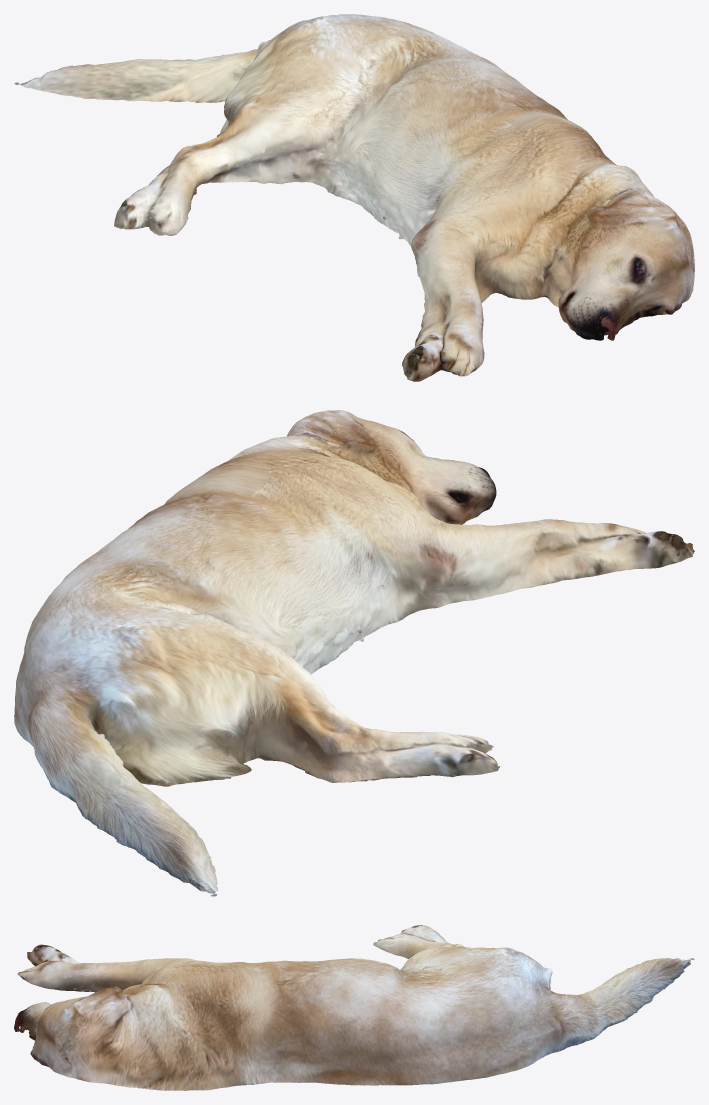
Rendered from dog4.glb.
3 views of the same model, one above another, from view 1: azimuth 30°, elevation 25°; view 2: azimuth 150°, elevation 25°; view 3: azimuth 270°, elevation 25° (orthographic). The views are drawn at different scales.
Parts seen in each view (by area): view 1: unnamed_1; view 2: unnamed_1; view 3: unnamed_1.
Boxes of the visible parts, x1,y1,x2,y2 form: unnamed_1: (14,14,694,381); unnamed_1: (14,410,694,896); unnamed_1: (14,925,694,1090).
Bounding box in the file's own units: 0.6933 × 0.1735 × 1.24.
Materials: 1 (1 with a texture image).
